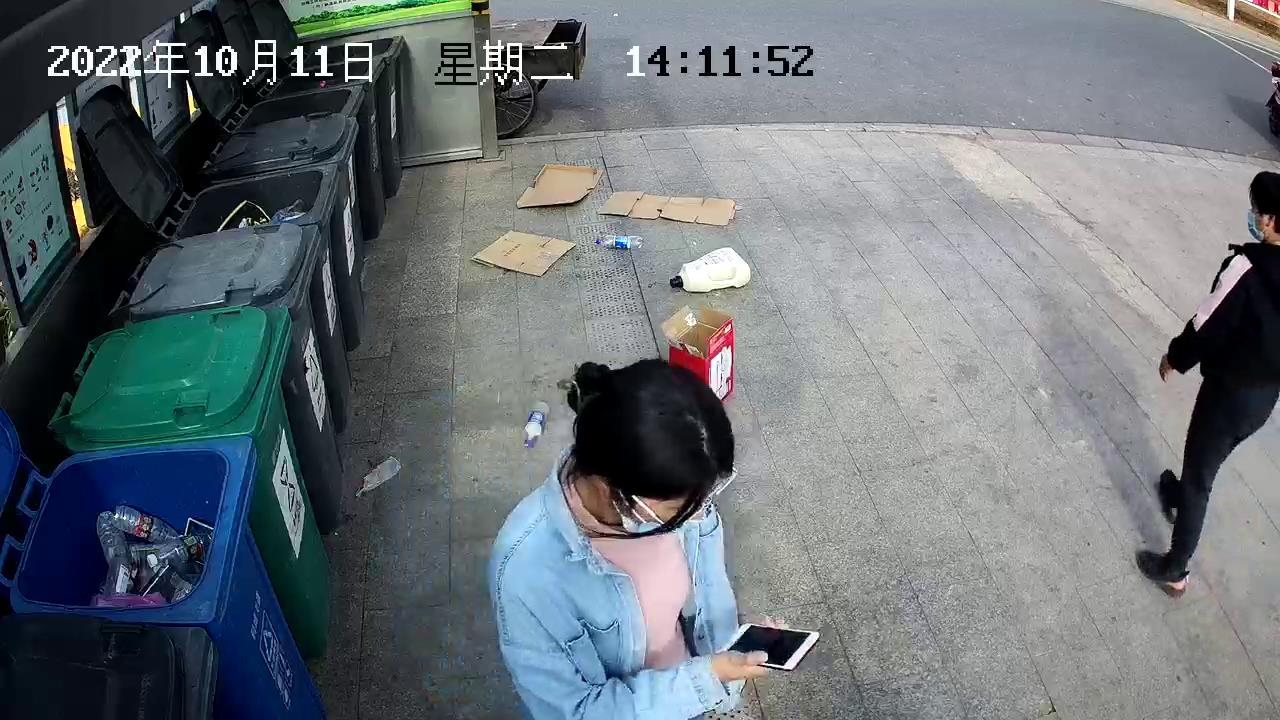person: (1129, 168, 1280, 602)
suliaozhipin: (666, 244, 753, 294), (353, 455, 403, 498), (519, 398, 550, 450), (592, 229, 645, 253)
worker: (484, 354, 819, 720)
zhizhipin: (658, 301, 737, 402), (470, 227, 577, 280), (601, 189, 738, 229), (515, 161, 606, 209)
